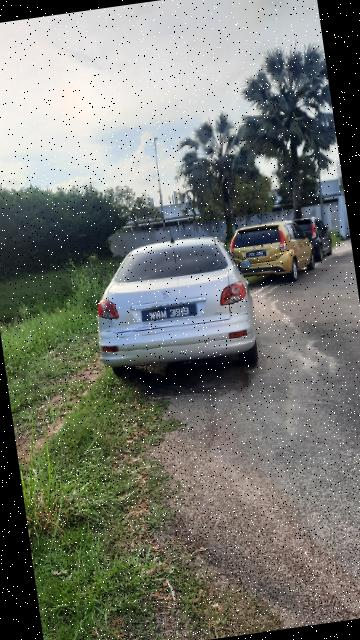License_Plate: (138, 301, 199, 324), (245, 250, 268, 260)
car: (81, 224, 263, 388), (224, 212, 345, 290)
